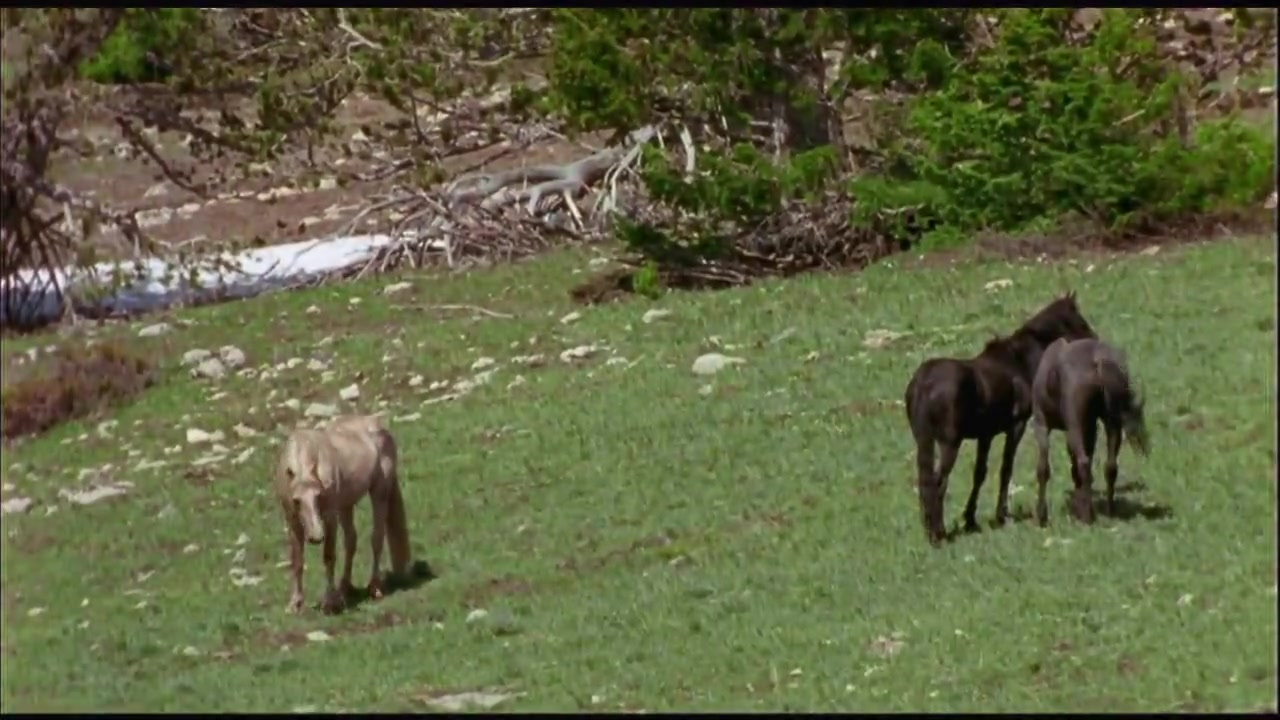horse: (272, 409, 414, 618)
